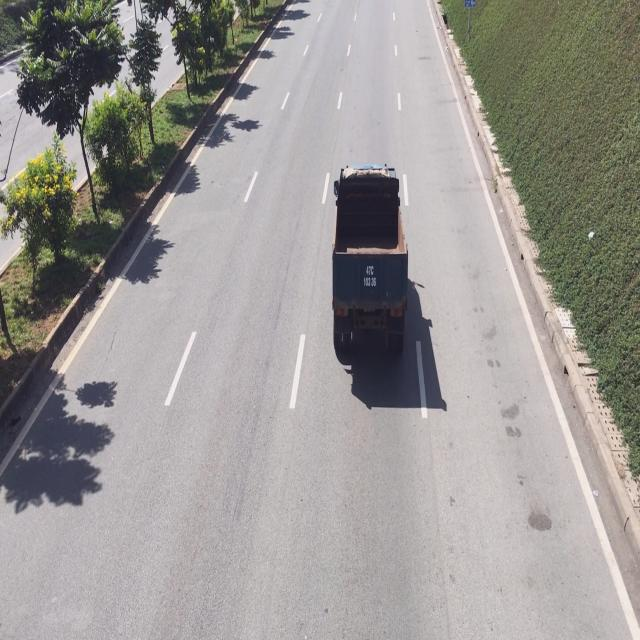truck: (332, 163, 409, 364)
